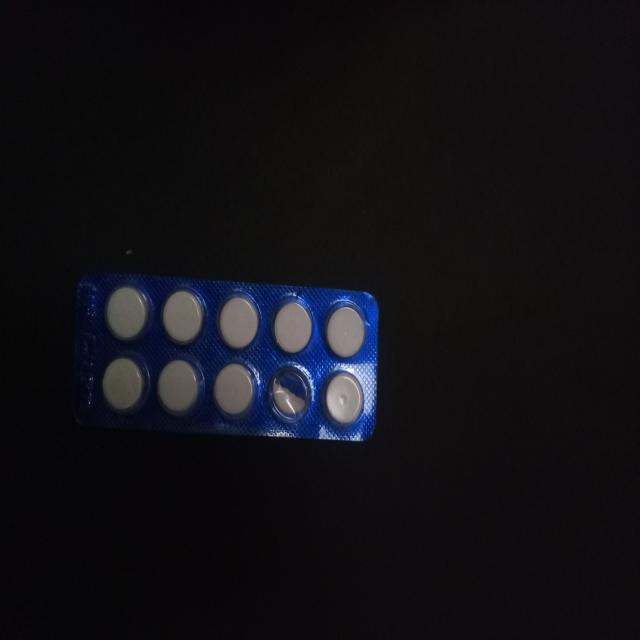defect: (266, 363, 314, 428)
